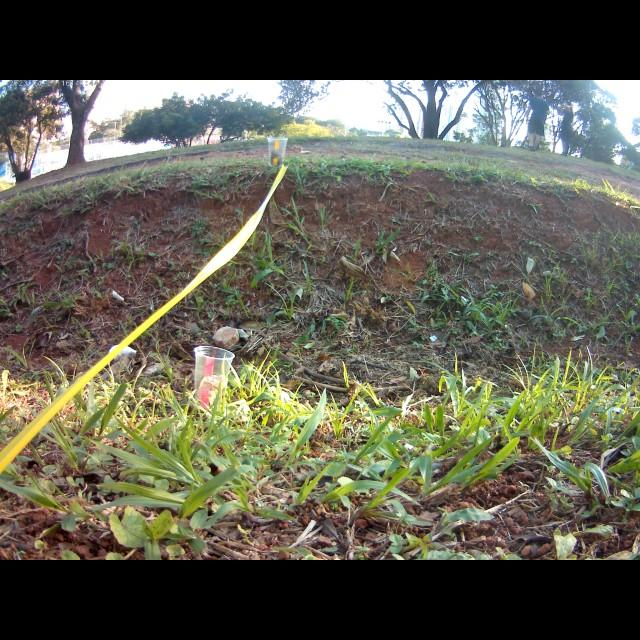ravina: (10, 211, 640, 376)
